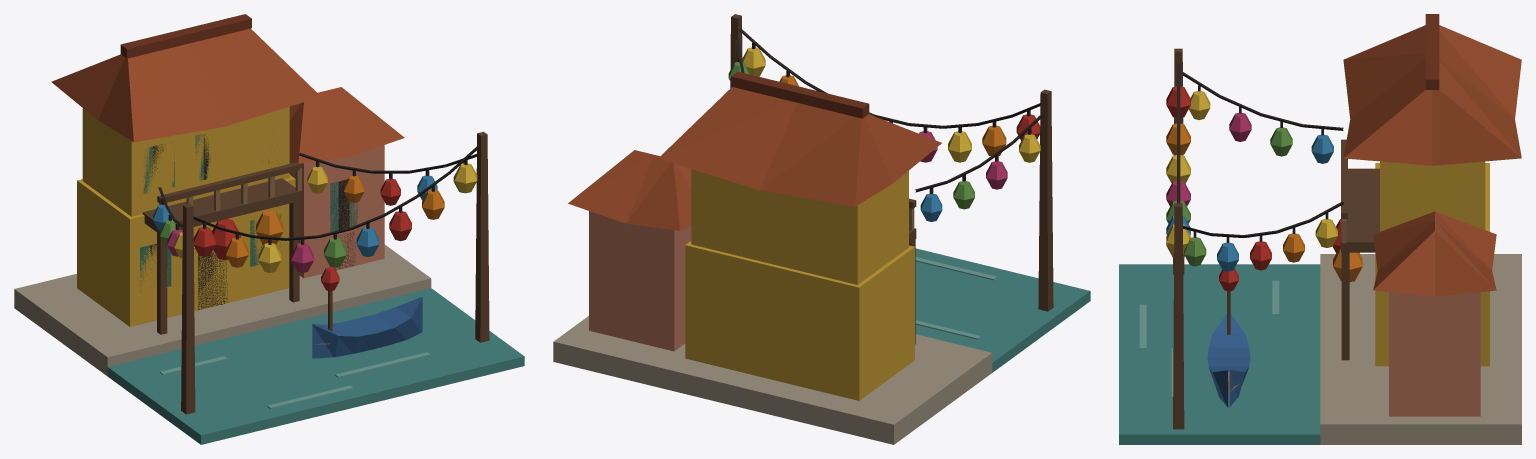
The model's file is lanternes.glb.
3 renders of one model, left to right at view 1: azimuth 30°, elevation 25°; view 2: azimuth 150°, elevation 25°; view 3: azimuth 270°, elevation 25°, orthographic. The views are drawn at different scales.
Visible parts, largest first — view 1: lanternes; view 2: lanternes; view 3: lanternes.
Part boxes in pixels (<box>): lanternes: <box>14,14,524,444</box>; lanternes: <box>553,14,1090,444</box>; lanternes: <box>1119,14,1521,444</box>.
Bounding box in the file's own units: 1.76 × 1.43 × 1.76.
